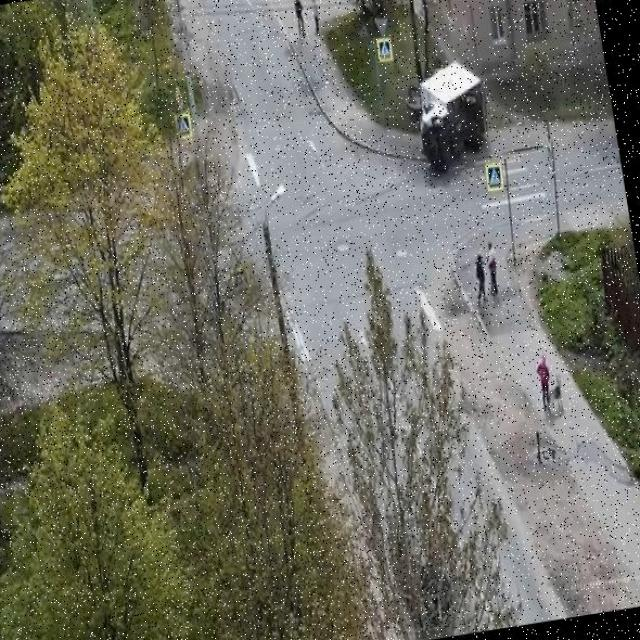accident: (403, 50, 500, 182)
